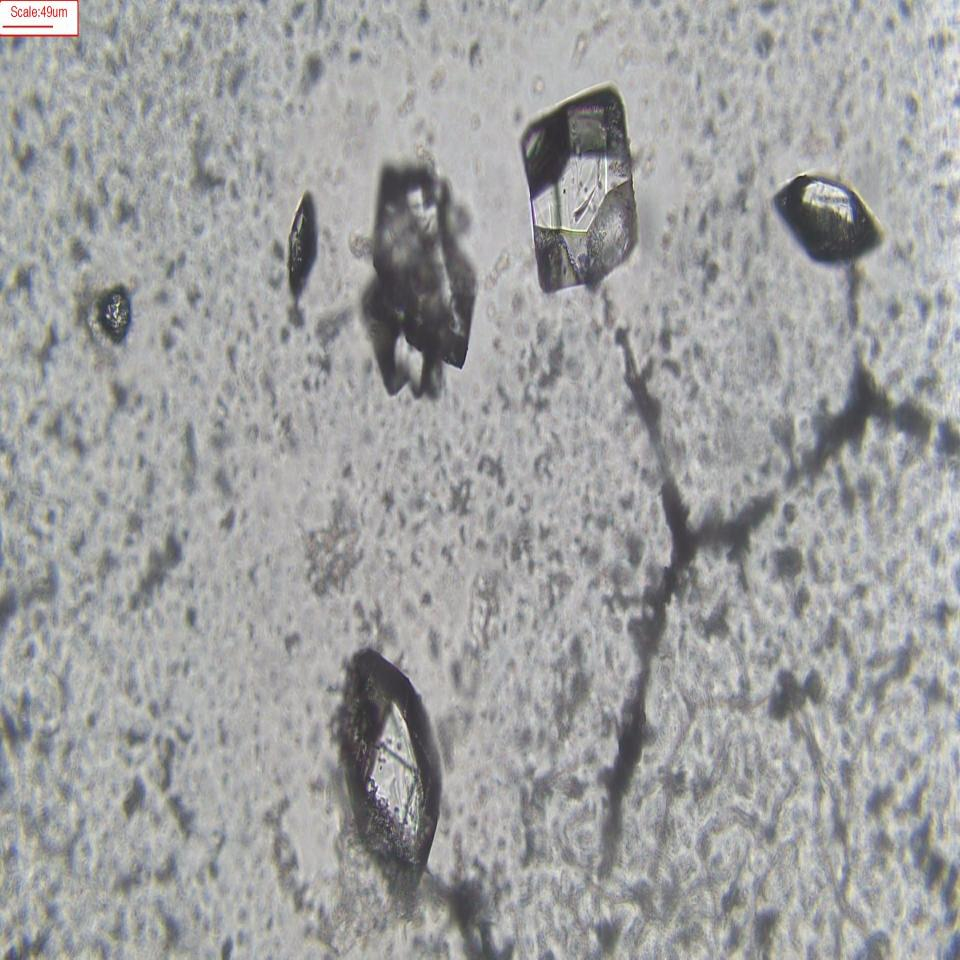crystal: (324, 638, 451, 903), (517, 96, 642, 294), (374, 167, 472, 364), (769, 172, 870, 274), (286, 183, 321, 296), (87, 284, 140, 344)
